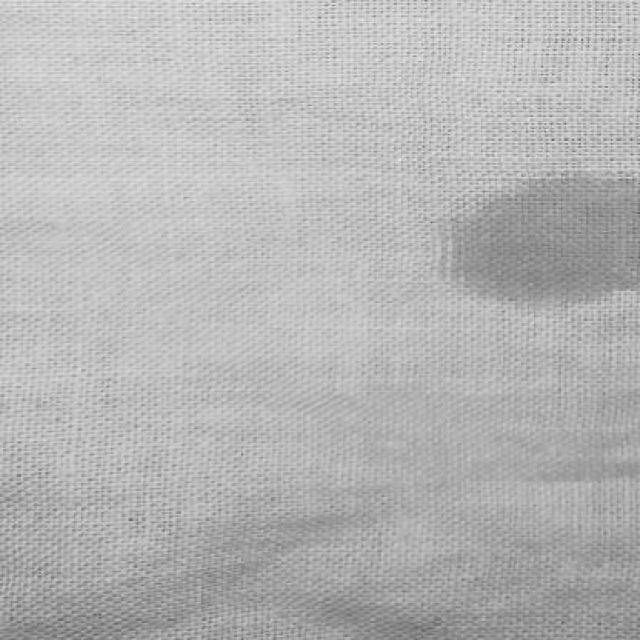Thread_other: (371, 138, 640, 332)
